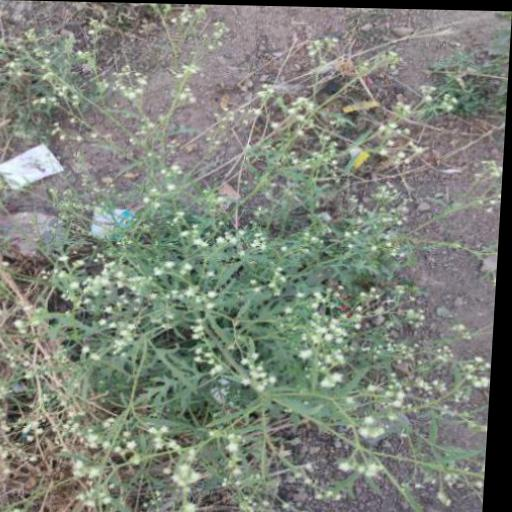weed: (0, 69, 462, 507)
